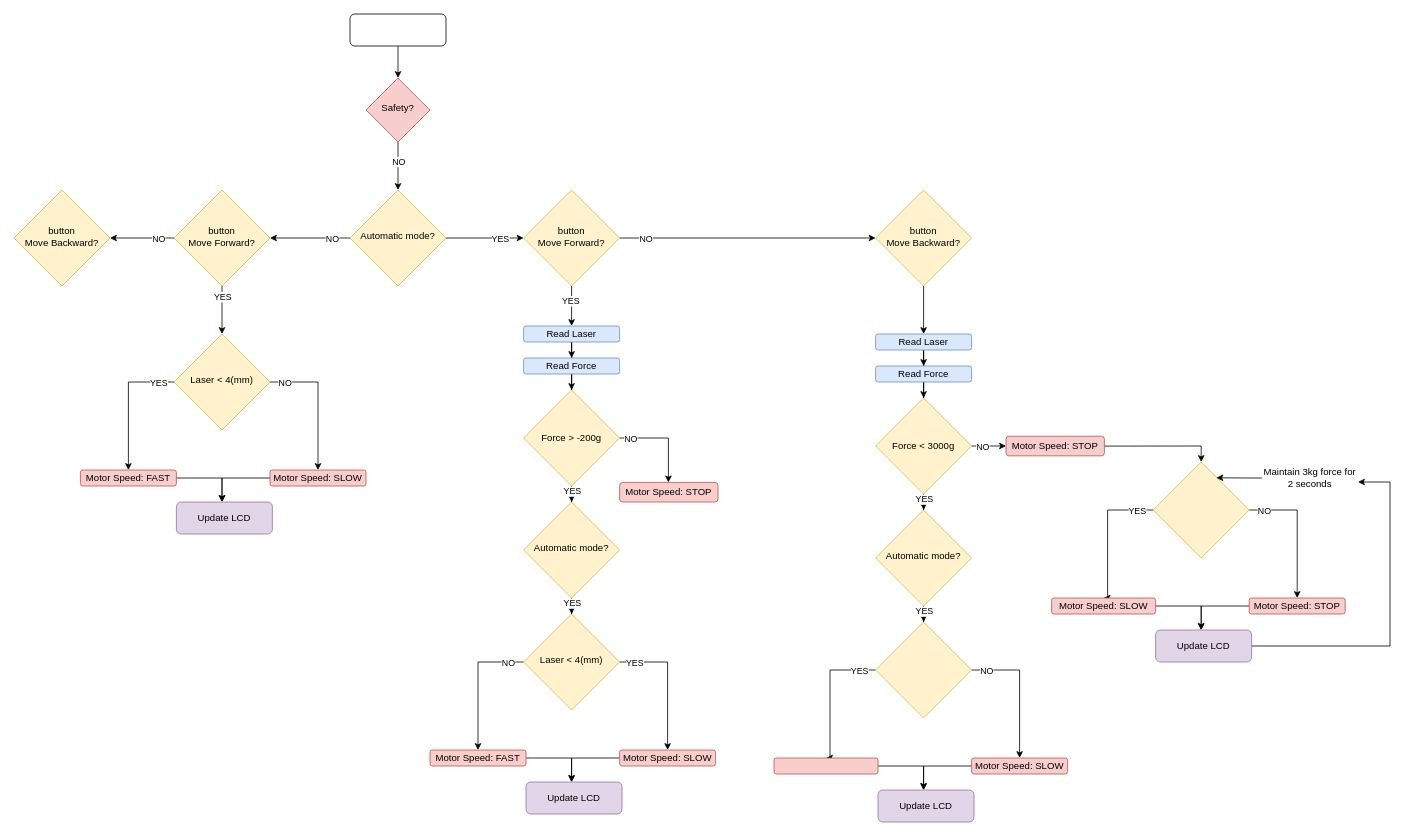
This 1410x836 diagram has some shape labels left out. Here are the shapes that lost their labels. From the top down, the box of each, then its label:
(349, 13, 446, 46): SDL Atlas Flow
(1152, 461, 1249, 558): Force < 3000
(875, 621, 972, 718): Force < 3000*0.6g
(773, 757, 878, 774): Motor Speed: MEDIUM
